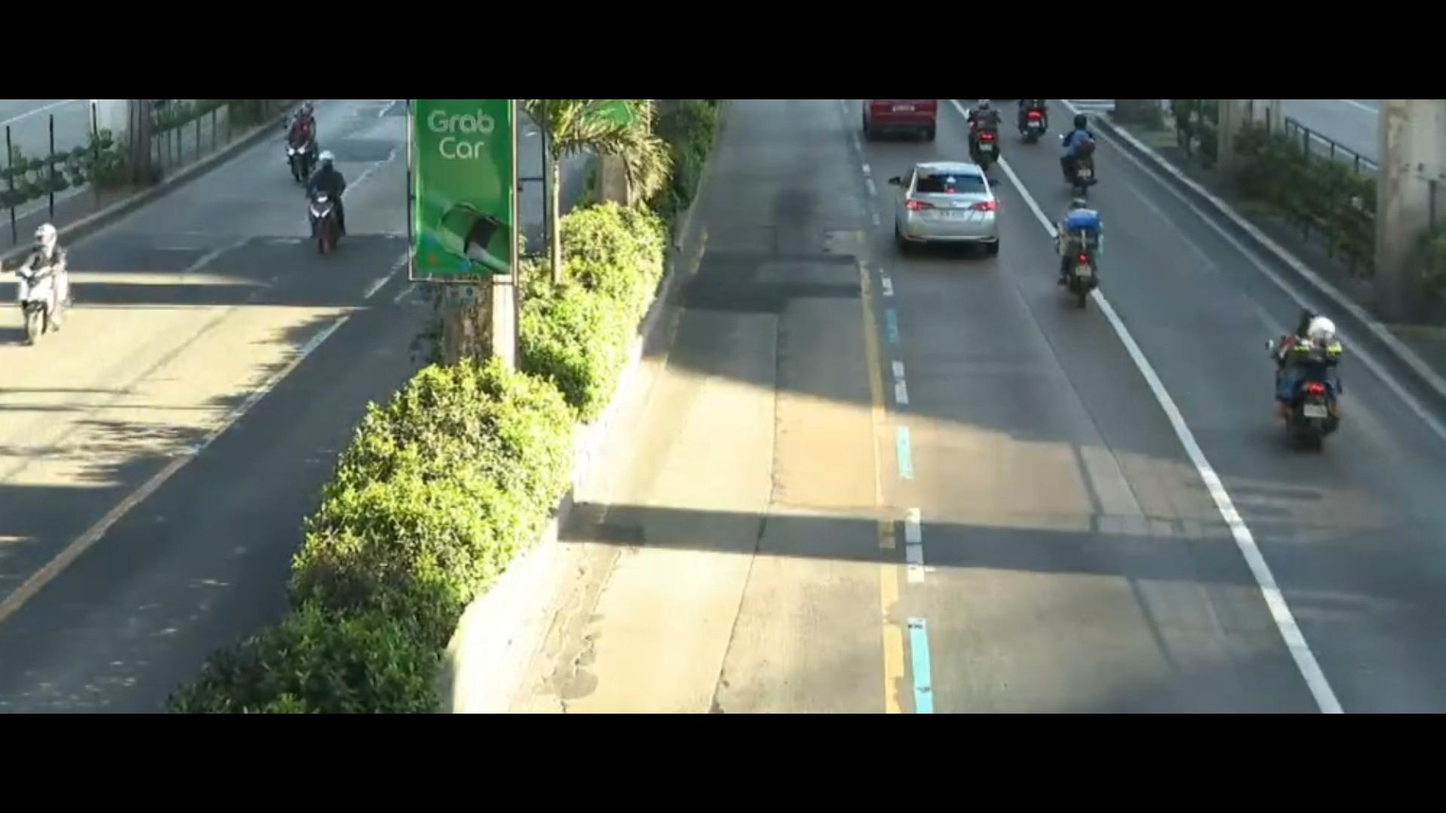Motorcycle: (1250, 285, 1377, 470), (1037, 179, 1126, 327), (6, 217, 96, 333), (286, 157, 366, 250), (1051, 104, 1126, 197), (275, 96, 334, 190), (960, 110, 1012, 175), (1015, 89, 1063, 155)
Sedan: (876, 151, 1031, 277)
